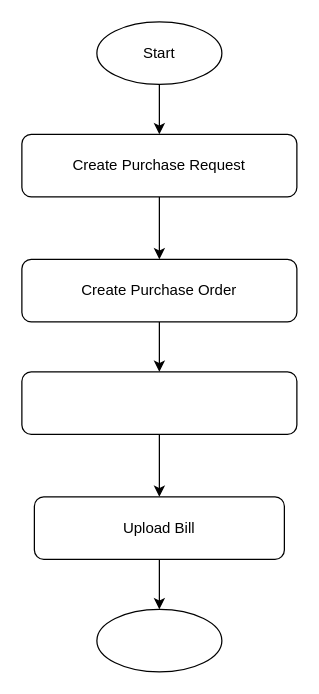
Image size: 319x694. Some labels were removed from this diagram. Here are the shapes that lost their labels. From the top down, the centre of each, then its label:
At pixel 159 402: "Receive Goods".
At pixel 159 640: "End".
